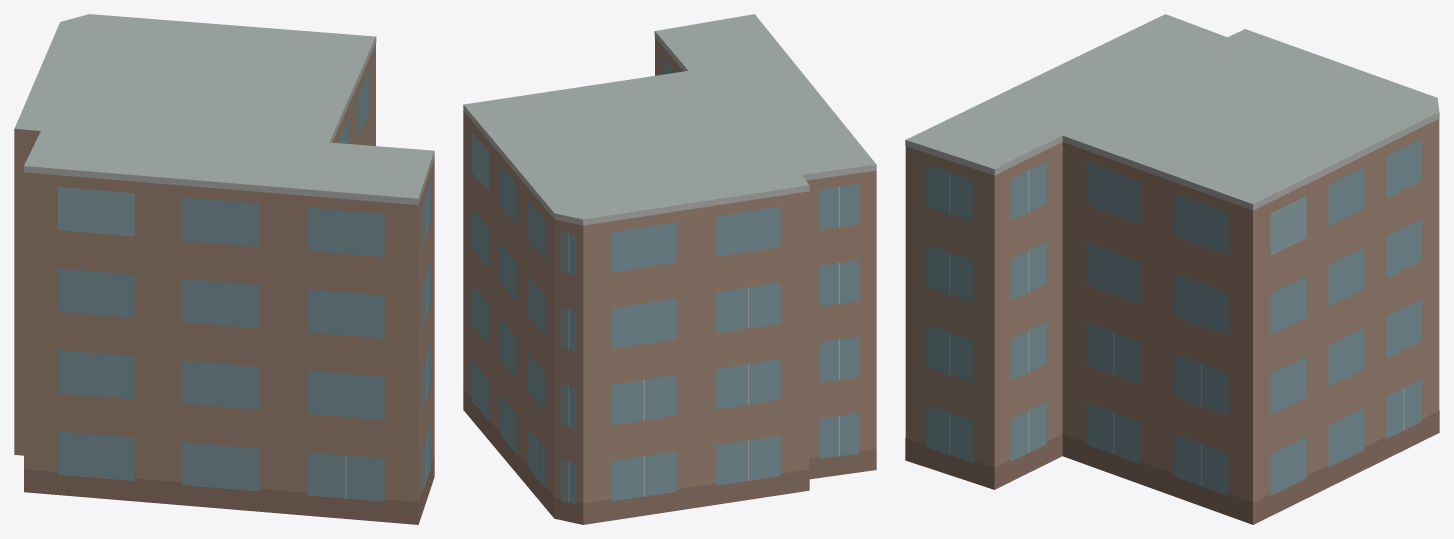
Rendered from survey-upis-32717308.glb.
3 views of the same model, side by side, from view 1: azimuth 30°, elevation 25°; view 2: azimuth 150°, elevation 25°; view 3: azimuth 270°, elevation 25° (orthographic). The views are drawn at different scales.
Visible parts, largest first — view 1: survey-upis-32717308.tmp; view 2: survey-upis-32717308.tmp; view 3: survey-upis-32717308.tmp.
Boxes of the visible parts, left/top/right/bottom form: survey-upis-32717308.tmp: left=14, top=14, right=434, bottom=524; survey-upis-32717308.tmp: left=463, top=14, right=876, bottom=524; survey-upis-32717308.tmp: left=905, top=14, right=1439, bottom=524.
Size of the model in its own units: 15.67 by 12.3 by 18.57.
